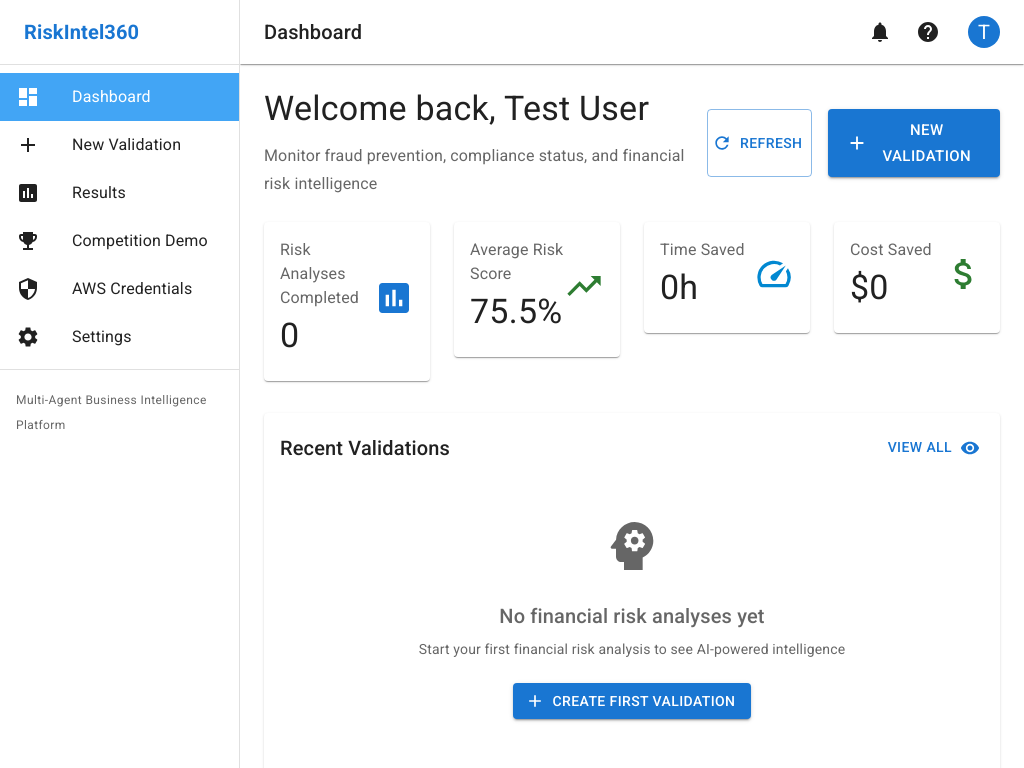
Dashboard Navigation Integration Tests › should navigate to results page
Expected: the heading "Welcome back, Test User" is shown, [264,88,707,130]
Click the button "Results": {"x": 71, "y": 193} [16,181,126,205]
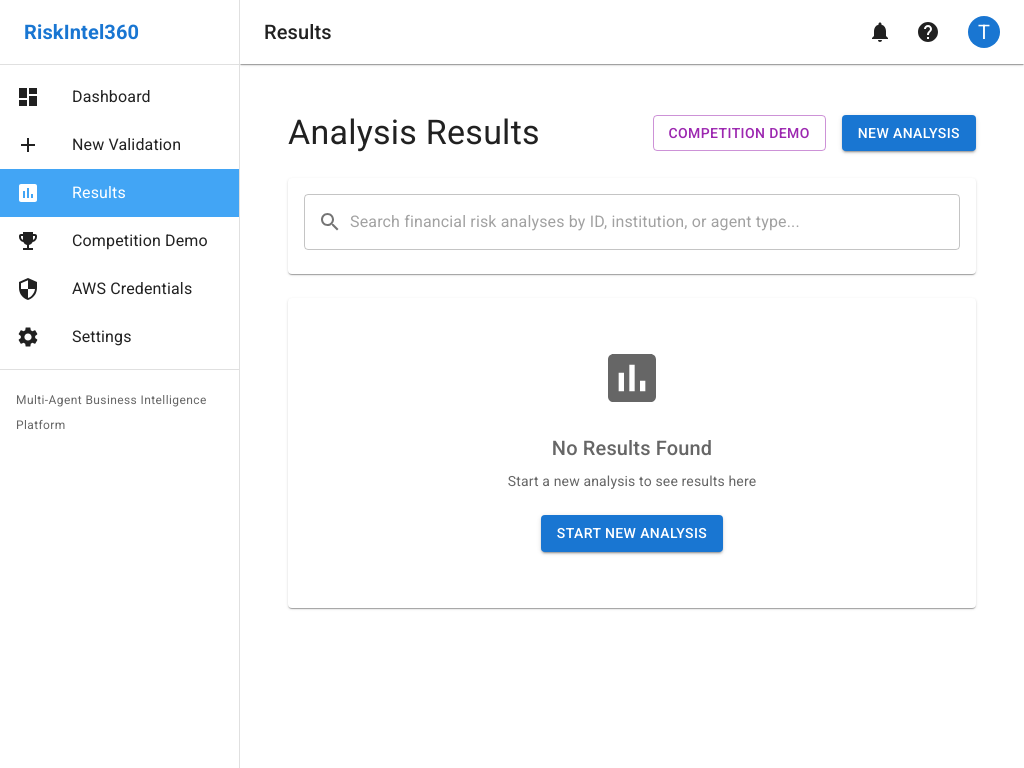
Now the 1st text "Results" is shown, box [264,20,332,44]
